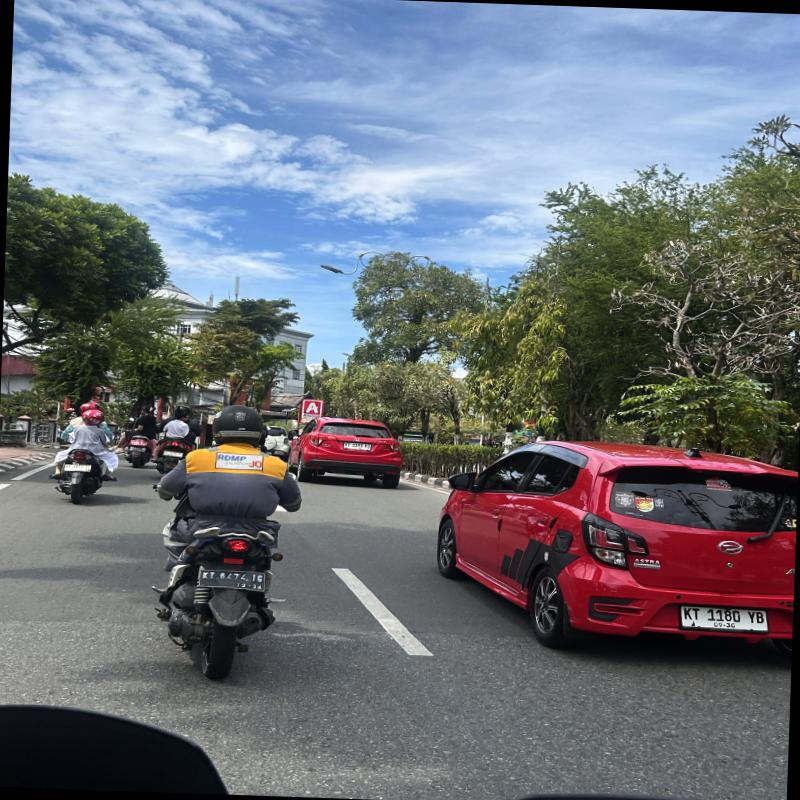license plate on a car: (679, 605, 769, 631), (343, 442, 371, 450)
